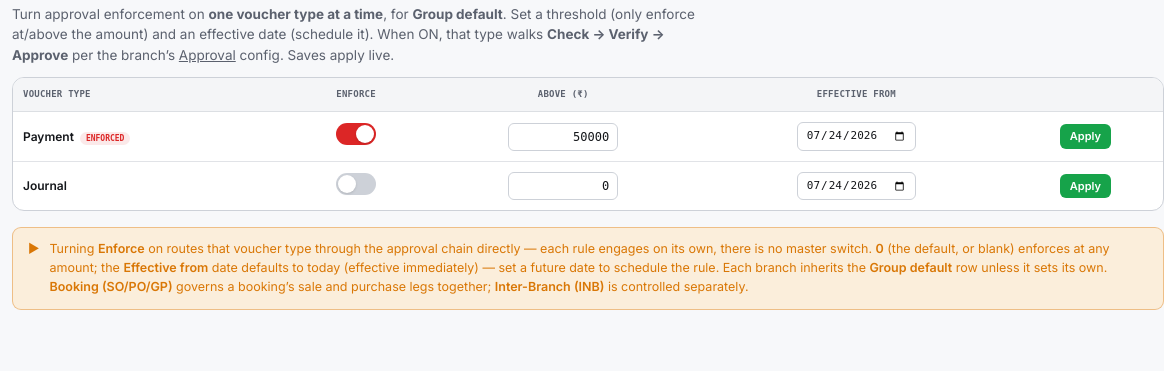
Test case: EnforcementMatrix › rejects a negative threshold before saving
Step 1. Replace the text in the number field named "Payment threshold" with "-1" → x=563, y=136, box [508,122,618,150]
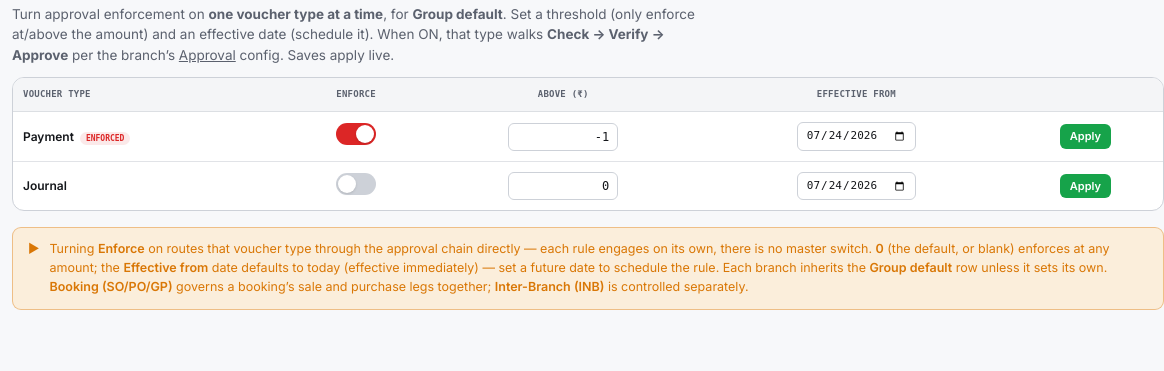
Step 2. Click the button "Apply" in the row of "Payment" → x=1085, y=137, box [1060,124,1111,149]
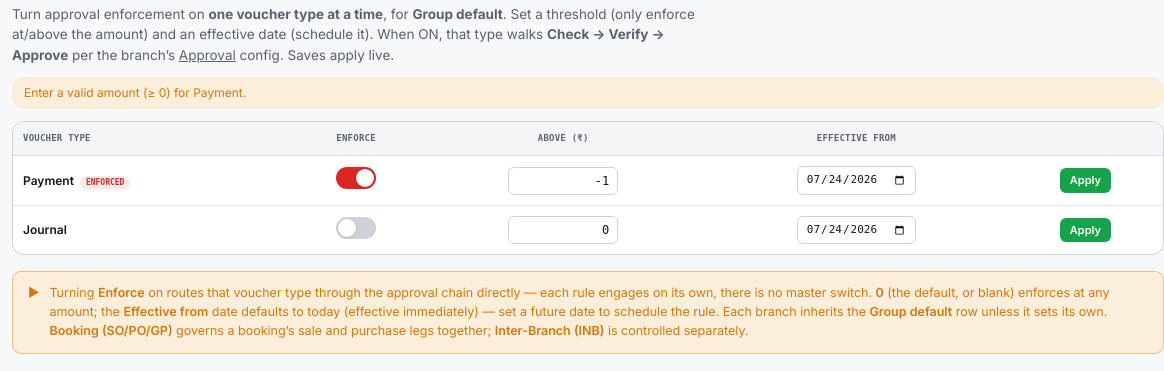
Check: the message shows "valid amount", box [24,85,246,100]
